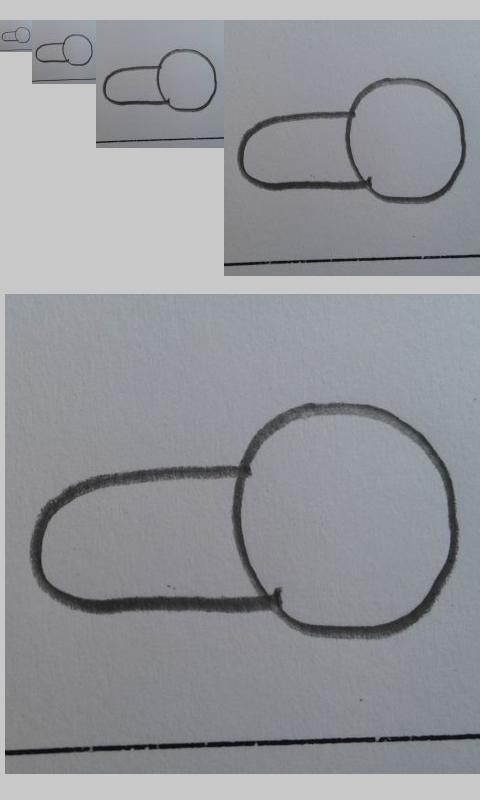switch: (27, 401, 463, 640), (236, 77, 468, 205), (102, 49, 218, 113), (35, 34, 93, 66), (1, 27, 32, 43)
